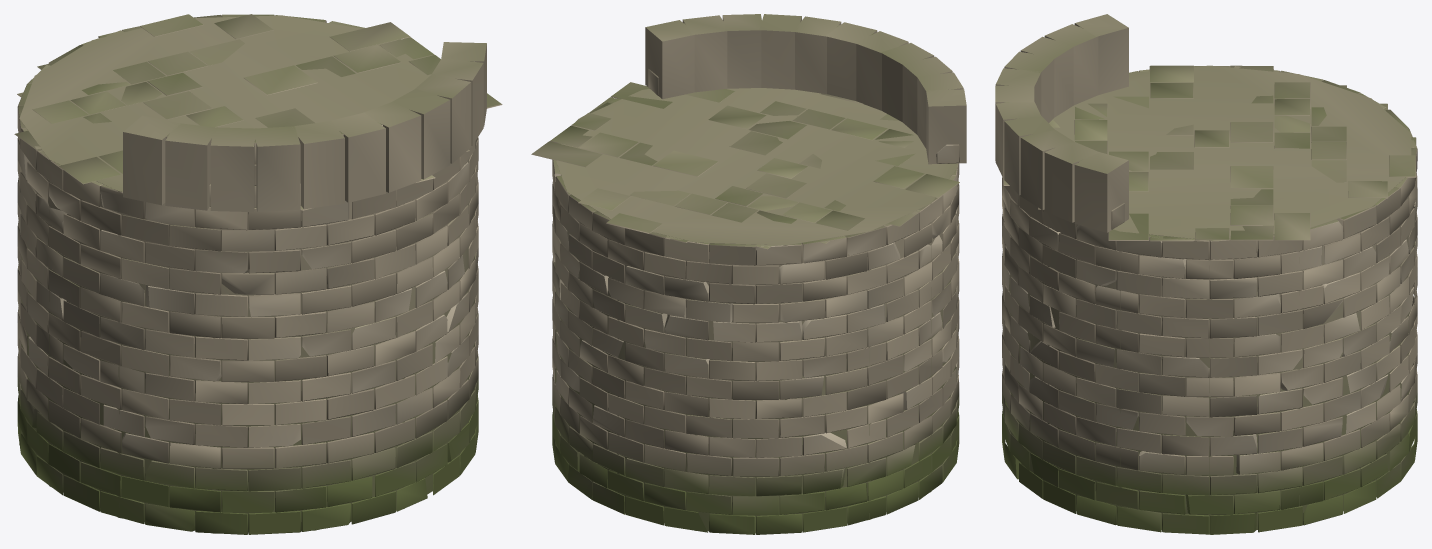
Rendered from citadel_bastion.glb.
The picture shows the model from 3 angles, left to right: view 1: azimuth 30°, elevation 25°; view 2: azimuth 150°, elevation 25°; view 3: azimuth 270°, elevation 25°; orthographic projection. The views are drawn at different scales.
Visible parts, largest first — view 1: citadel_bastion, citadel_bastion_far; view 2: citadel_bastion, citadel_bastion_far; view 3: citadel_bastion, citadel_bastion_far.
Part boxes in pixels (x1,y1,x2,y2): citadel_bastion: (14, 14, 502, 534); citadel_bastion_far: (19, 15, 486, 533); citadel_bastion: (531, 23, 959, 534); citadel_bastion_far: (554, 14, 966, 533); citadel_bastion: (1002, 26, 1417, 534); citadel_bastion_far: (995, 14, 1411, 534).
Size of the model in its own units: 42.29 by 39.6 by 42.9.
